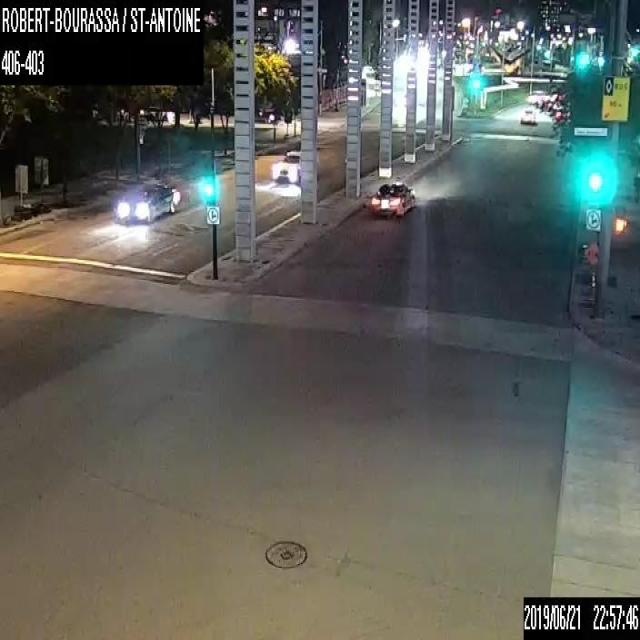construction: (585, 241, 598, 304)
vehicle: (116, 180, 181, 223), (370, 179, 415, 213), (272, 150, 300, 182), (554, 104, 569, 122), (520, 107, 535, 124)
